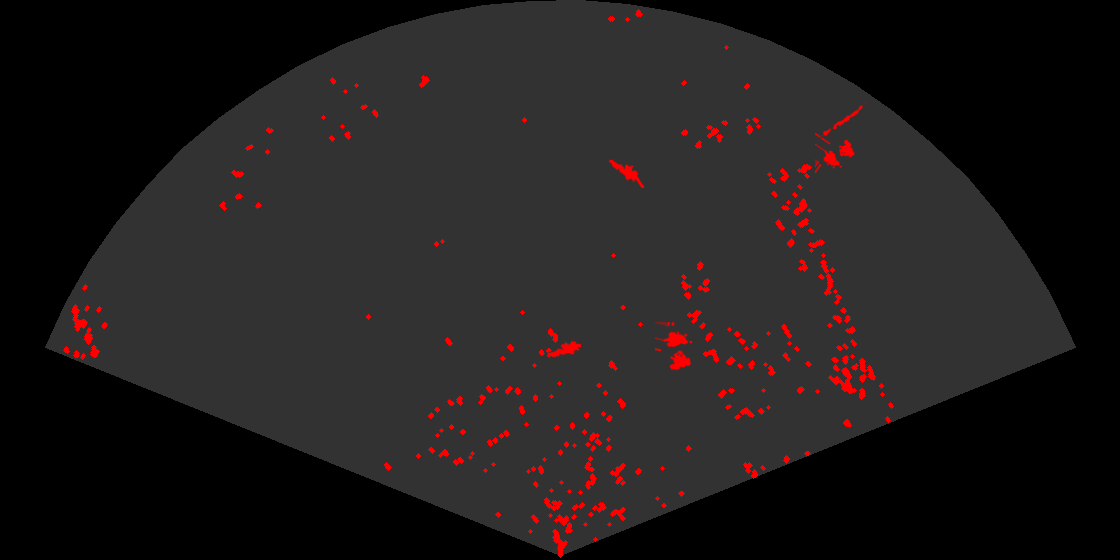cage: (655, 322, 694, 372), (815, 131, 856, 175)
chain: (820, 102, 869, 140)
frogman: (606, 153, 644, 188), (546, 339, 581, 359)
